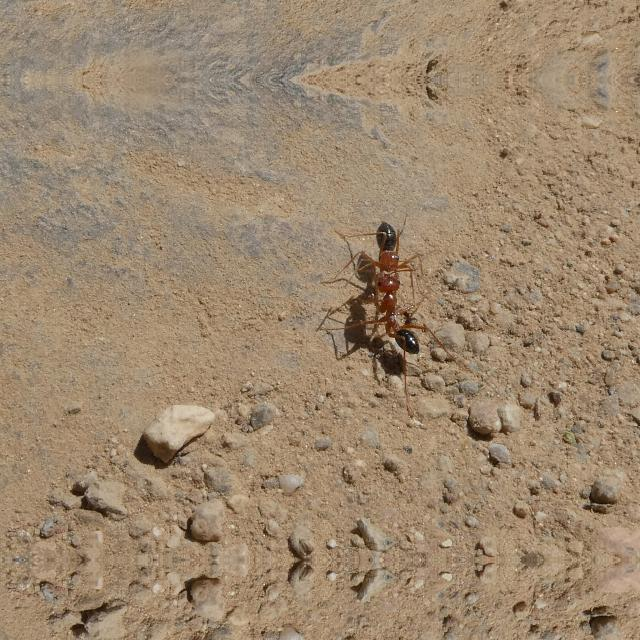Cataglyphis: (354, 275, 430, 375), (338, 226, 434, 284)
